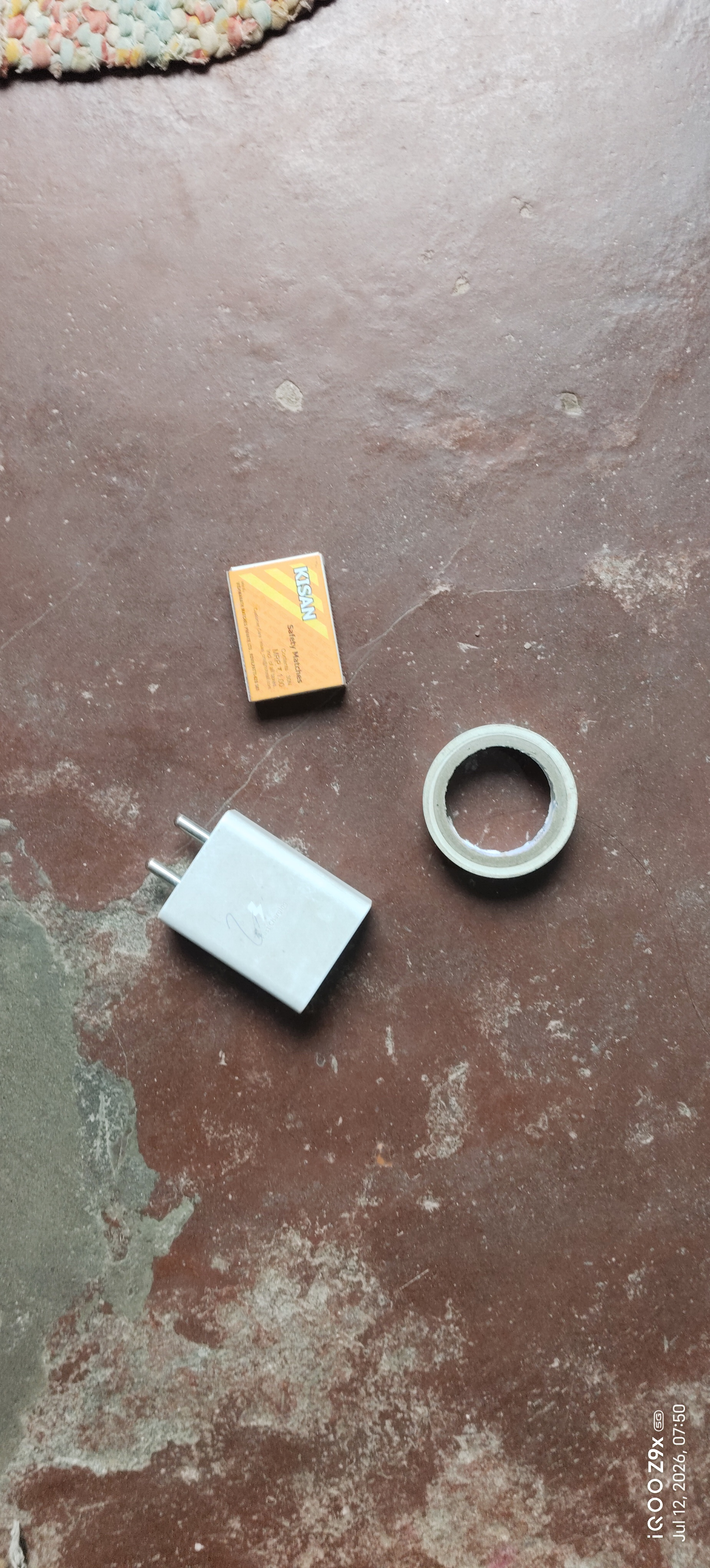charger: (116, 783, 394, 1046)
matchbox: (194, 536, 380, 745)
tape_roll: (409, 690, 597, 919)
